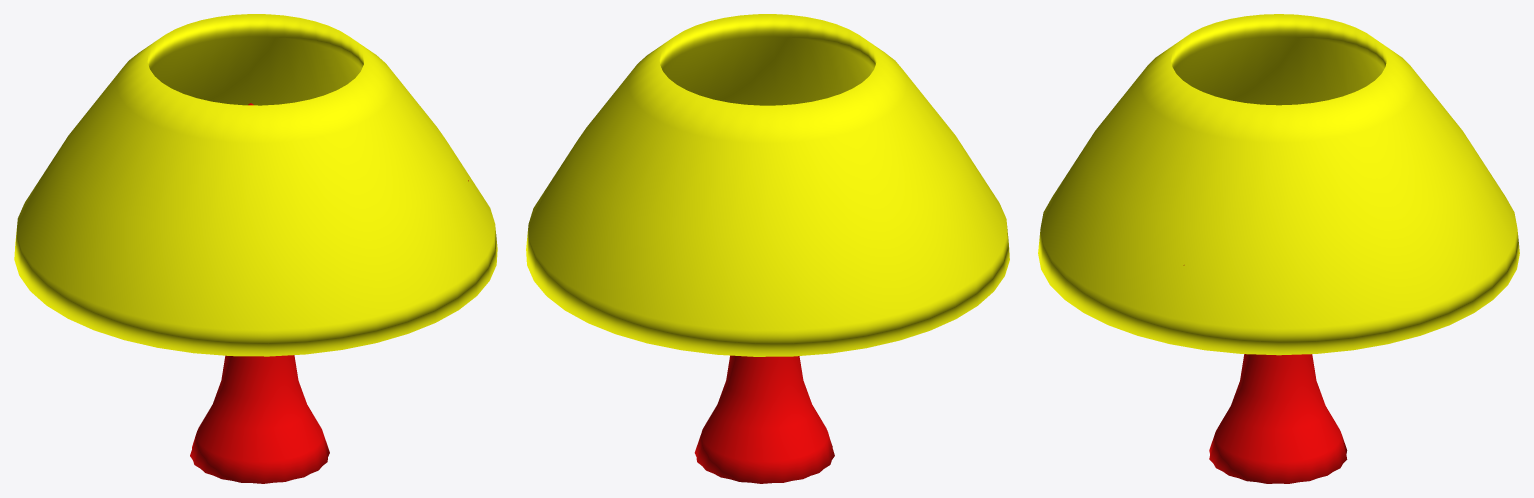
The model's file is lampe.fbx.
The picture shows the model from 3 angles, left to right: view 1: azimuth 30°, elevation 25°; view 2: azimuth 150°, elevation 25°; view 3: azimuth 270°, elevation 25°; orthographic projection.
Parts seen in each view (by area): view 1: pCylinder21, pCylinder20; view 2: pCylinder21, pCylinder20; view 3: pCylinder21, pCylinder20.
Part boxes in pixels (x1=…): pCylinder21: x1=14, y1=14, x2=497, y2=356; pCylinder20: x1=190, y1=103, x2=468, y2=483; pCylinder21: x1=526, y1=14, x2=1009, y2=356; pCylinder20: x1=694, y1=355, x2=834, y2=483; pCylinder21: x1=1038, y1=14, x2=1519, y2=355; pCylinder20: x1=1183, y1=265, x2=1347, y2=483.
Size of the model in its own units: 7.37 by 6.75 by 7.37.
